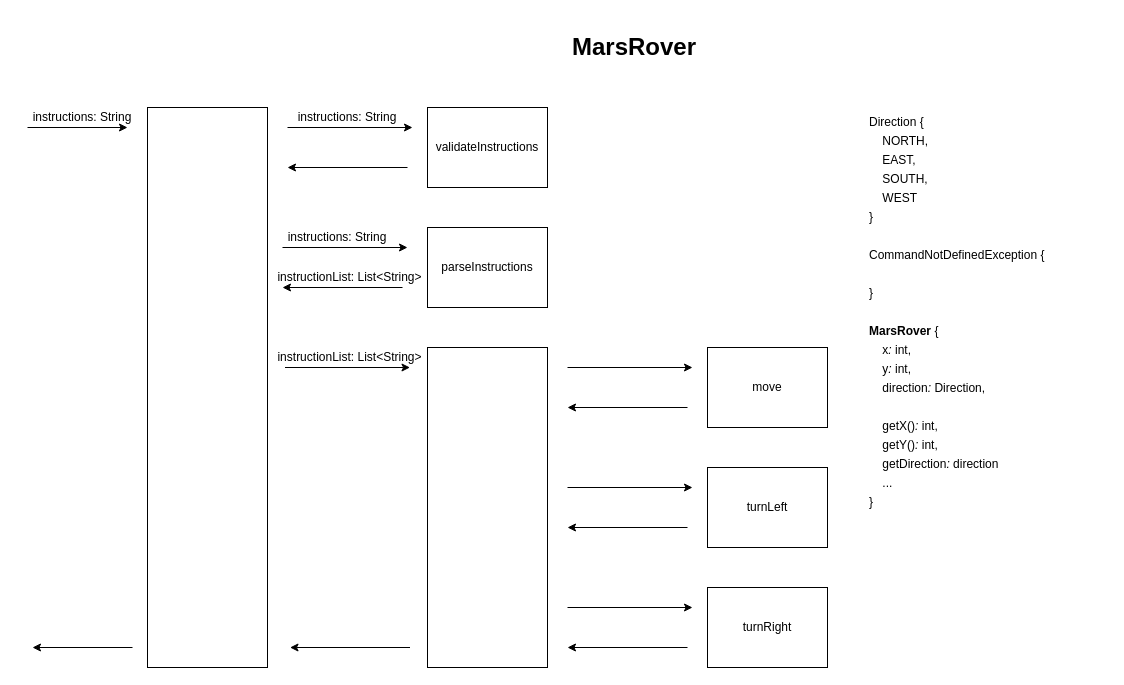
This 1124x685 diagram has some shape labels left out. Here are the shapes that lost their labels. From the top down, the centre of each, then its label:
At pixel 207 387: "instructRover".
At pixel 487 507: "performInstructions".
